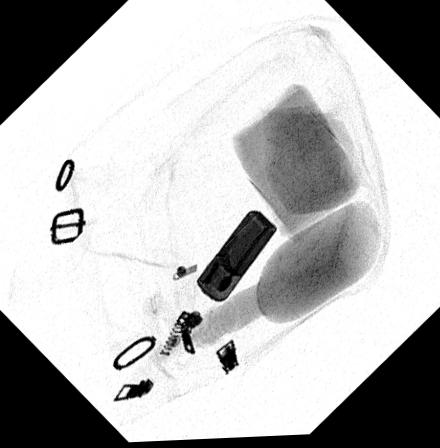Lighter: (194, 211, 277, 305)
